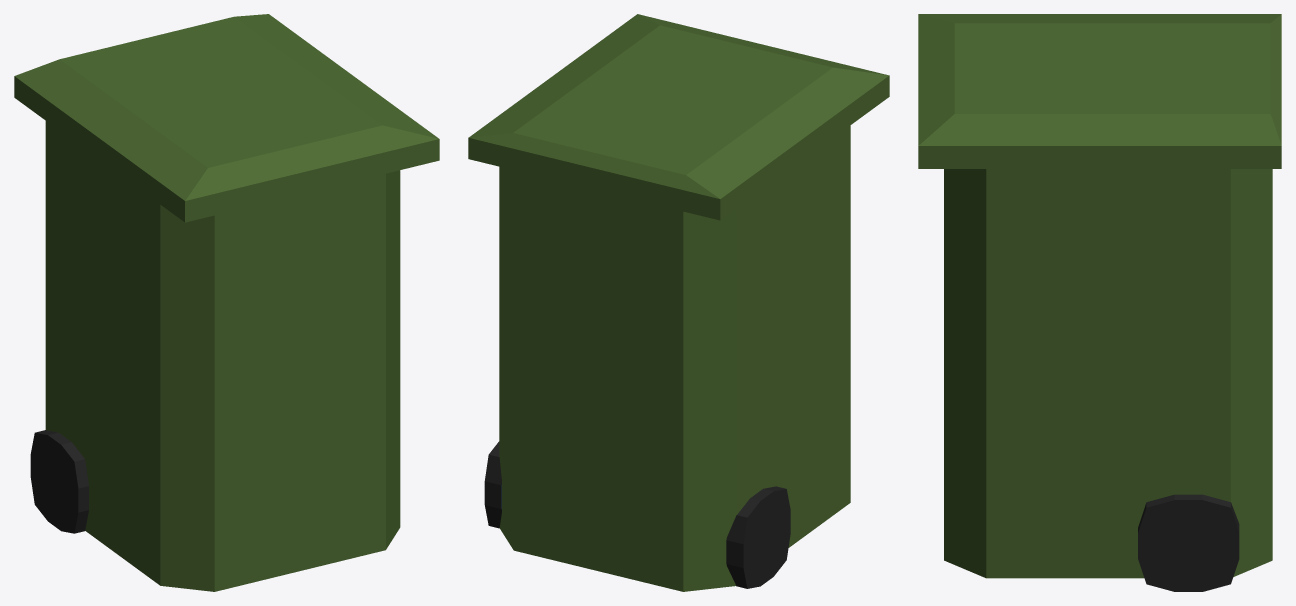
Rendered from greenbin.fbx.
3 renders of one model, left to right at view 1: azimuth 30°, elevation 25°; view 2: azimuth 150°, elevation 25°; view 3: azimuth 270°, elevation 25°, orthographic. The views are drawn at different scales.
Parts seen in each view (by area): view 1: bin; view 2: bin; view 3: bin.
Part boxes in pixels (box(x1,y1,x2,y2)): bin: box(14, 14, 439, 591); bin: box(468, 14, 889, 591); bin: box(918, 14, 1281, 591).
Size of the model in its own units: 76 by 119 by 86.
3 materials, 3 textured.
